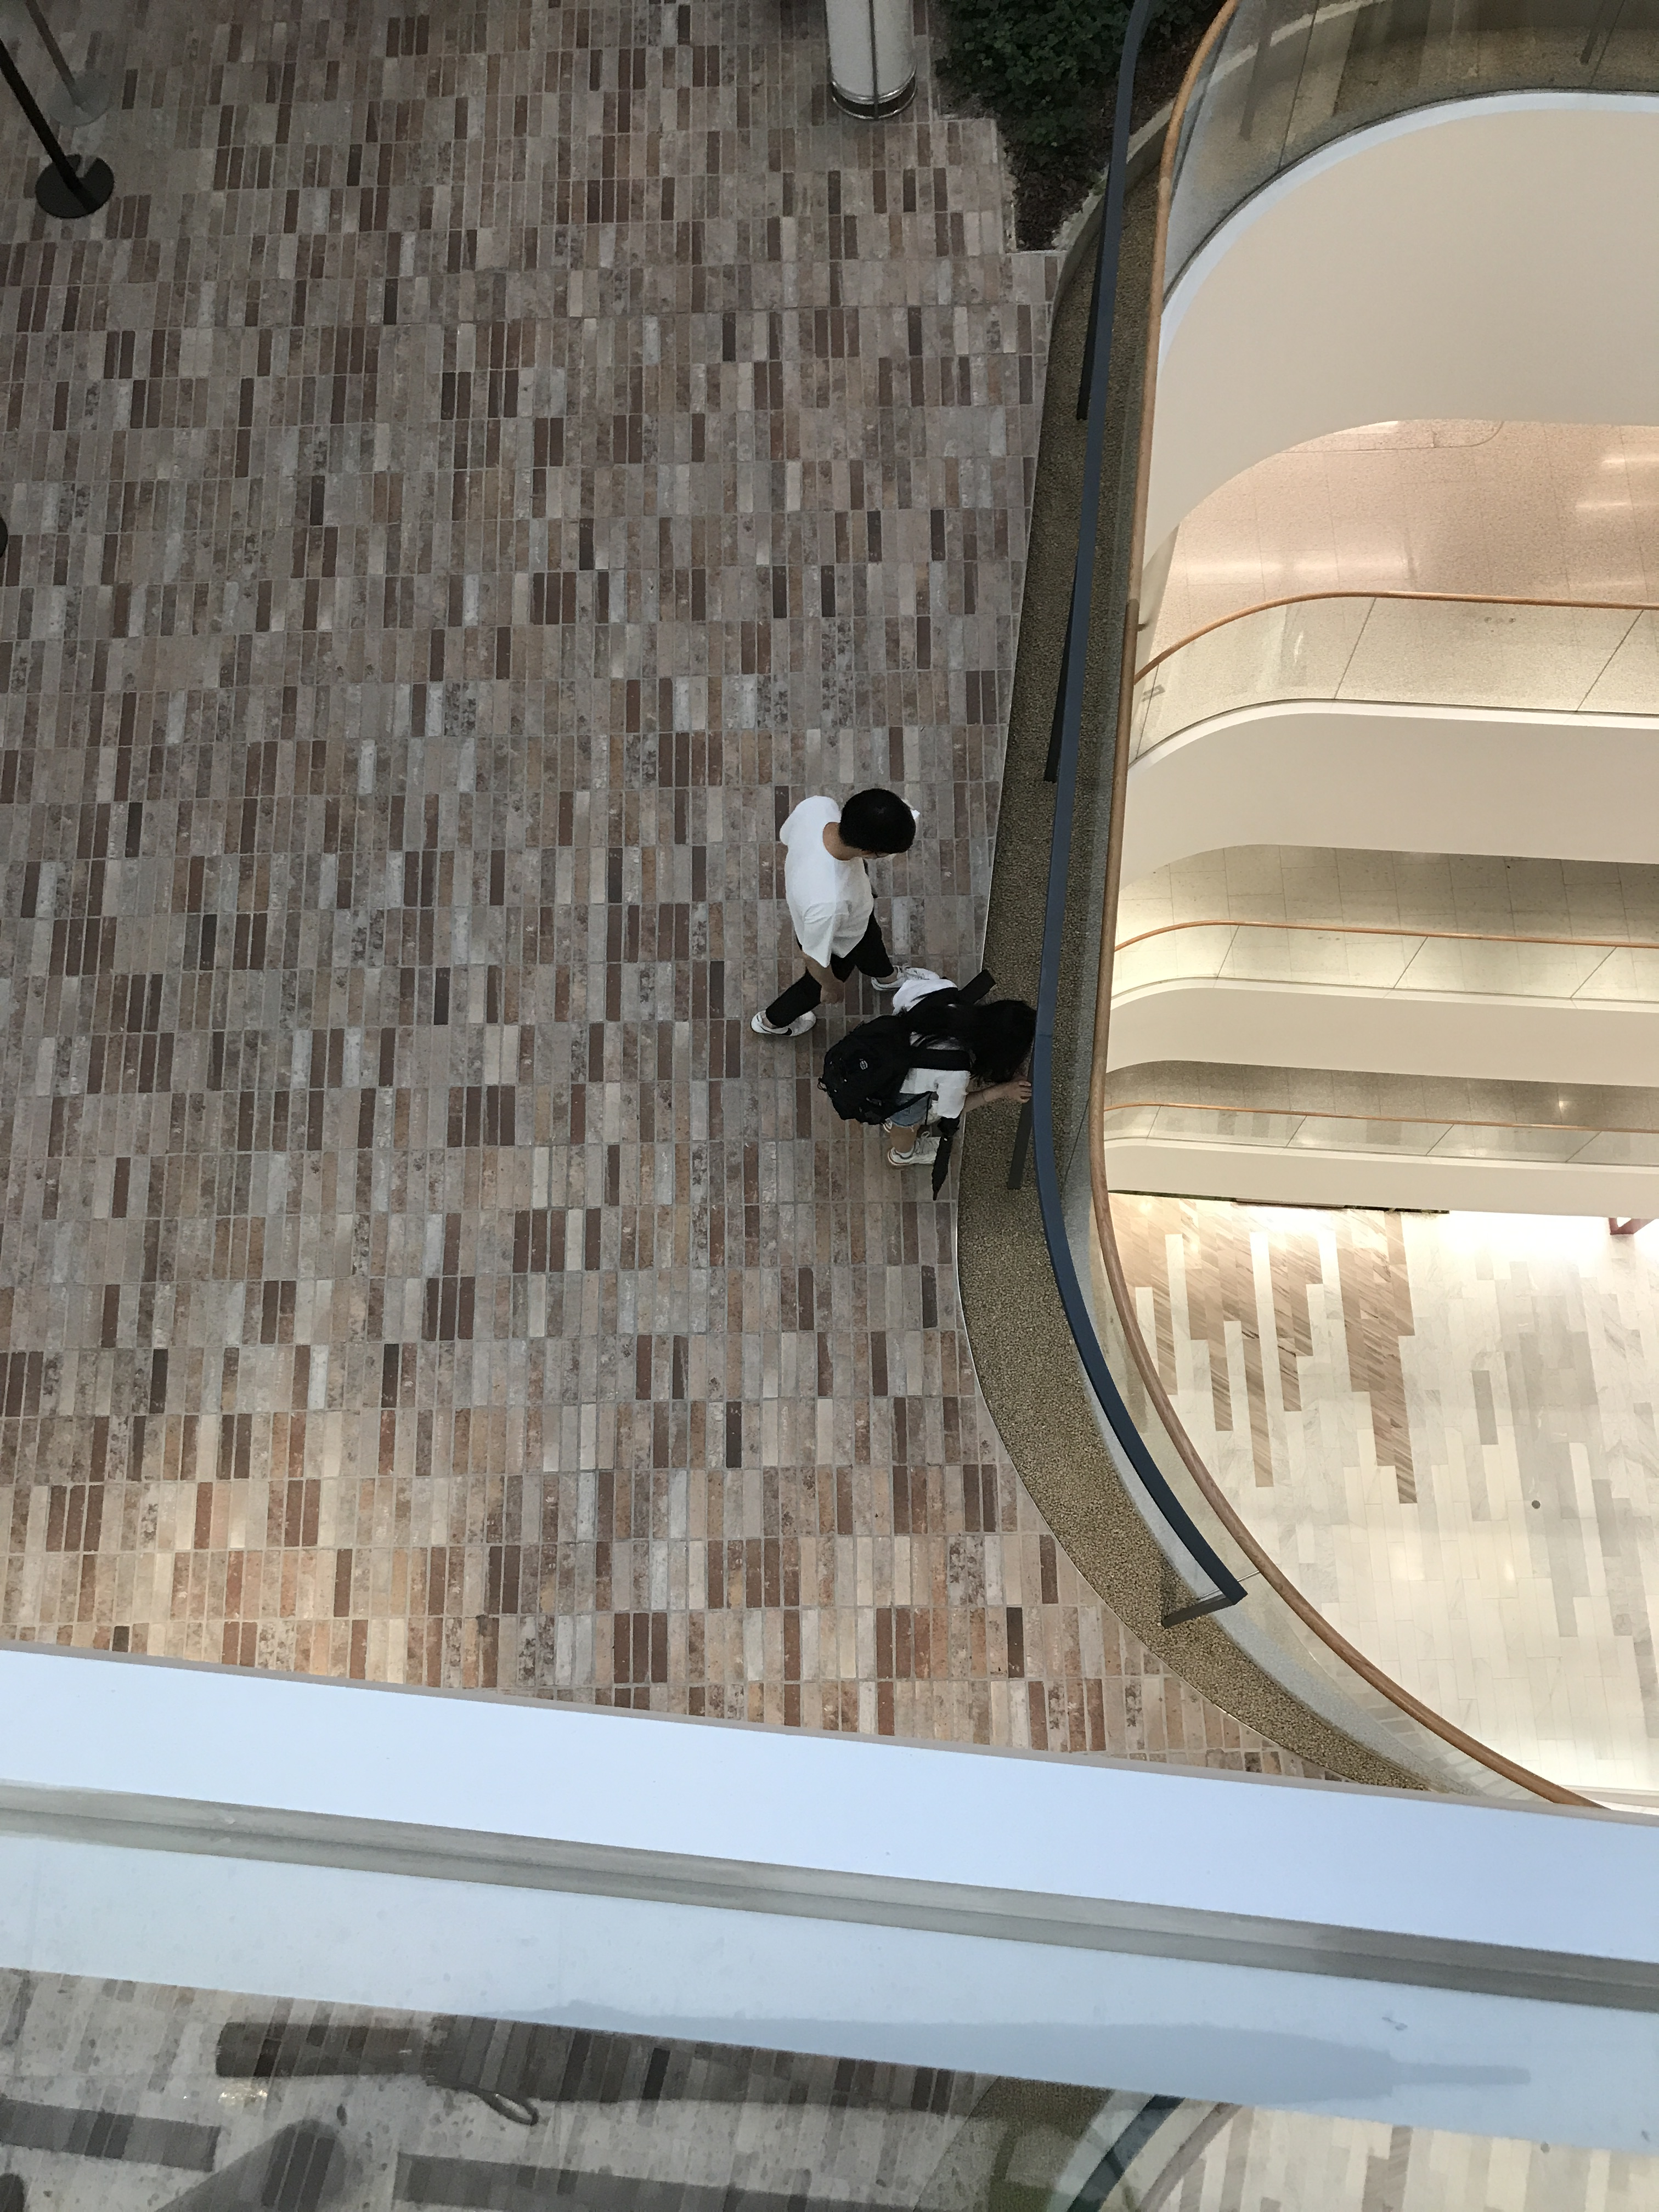person: (735, 791, 921, 1046), (820, 964, 1033, 1183)
